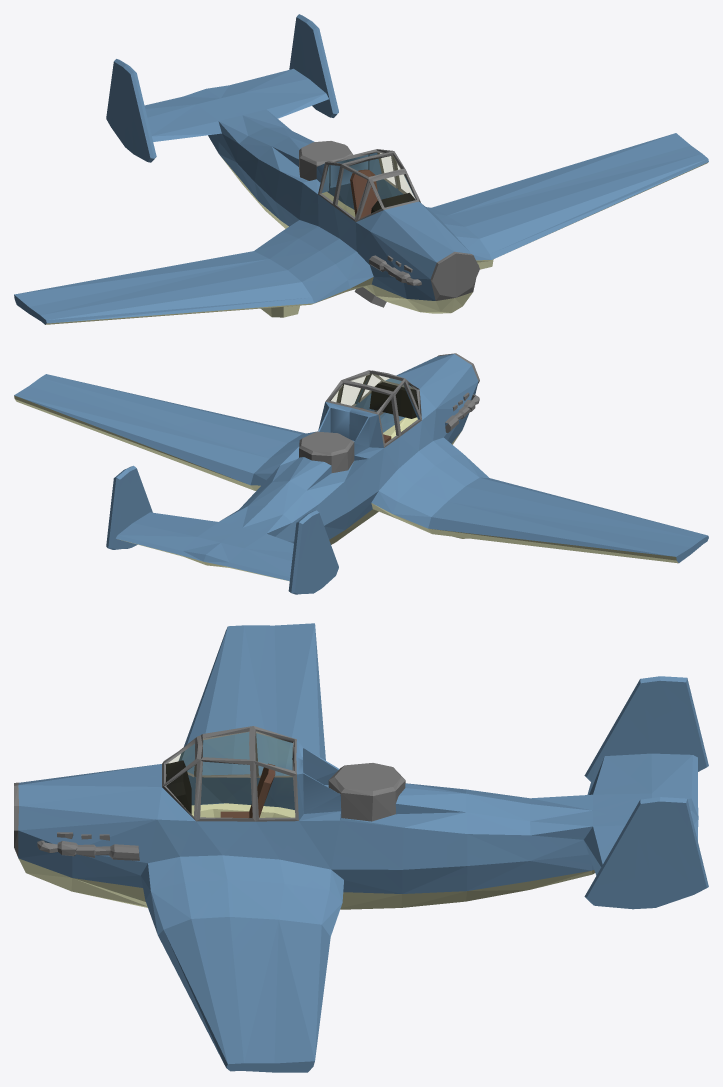
The model's file is aircraft_4.glb.
3 renders of one model, top to bottom at view 1: azimuth 30°, elevation 25°; view 2: azimuth 150°, elevation 25°; view 3: azimuth 270°, elevation 25°, orthographic. The views are drawn at different scales.
Parts seen in each view (by area): view 1: world; view 2: world; view 3: world.
Boxes of the visible parts, x1=… form: world: x1=14, y1=14, x2=708, y2=324; world: x1=14, y1=353, x2=708, y2=594; world: x1=14, y1=623, x2=708, y2=1072.
Size of the model in its own units: 14.59 by 2.7 by 9.78.
